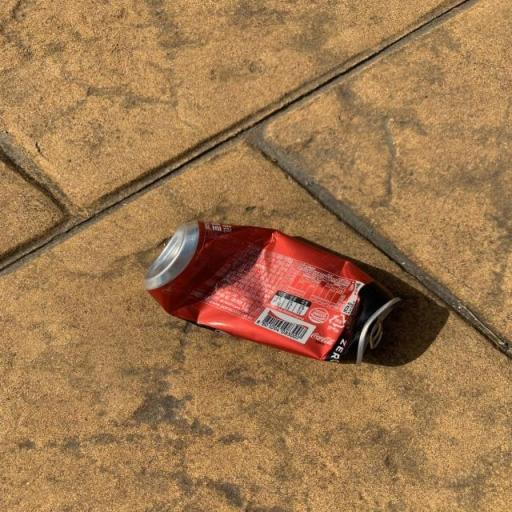metal: (110, 182, 485, 426)
